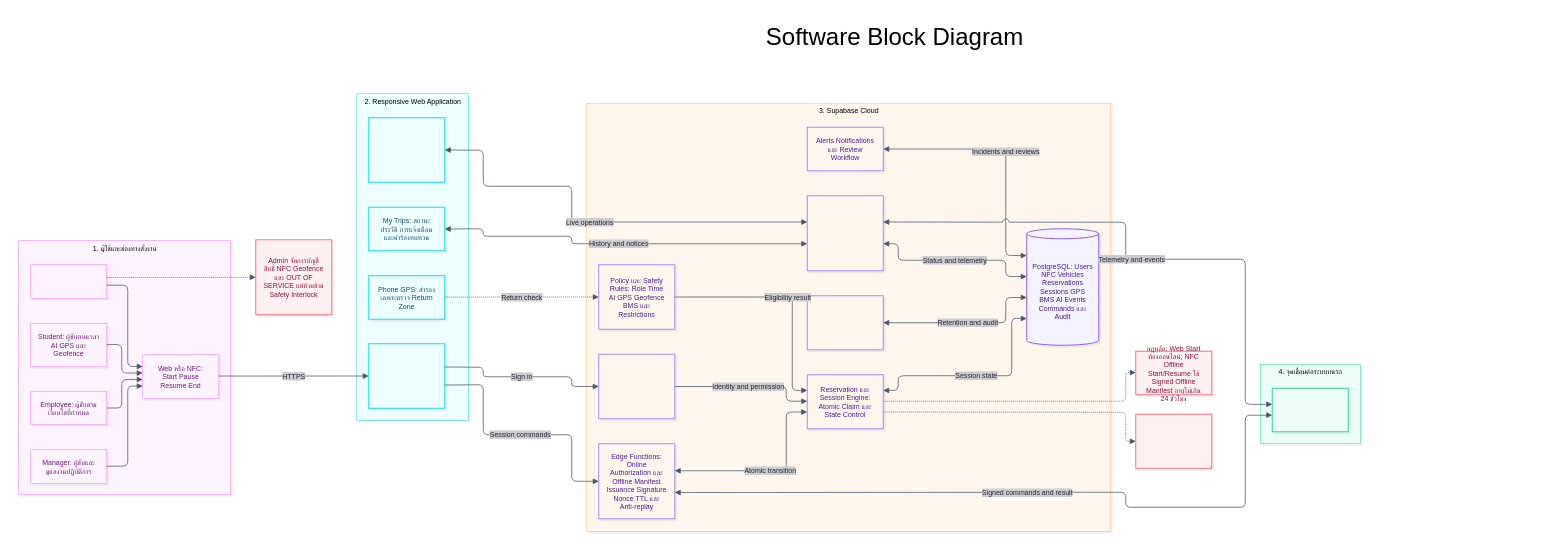
Image size: 1542x542. Some labels were removed from this diagram. Each missing label, with the centre of its shape:
"Admin: จัดการระบบและไม่ใช่บัญชีผู้ขับ" belongs at point 69,282.
"Audit Privacy Retention Version History และ Deletion" belongs at point 846,323.
"Auth และ RLS: Identity Role Account Status และ Driving Permission" belongs at point 637,387.
"Operations Dashboard: Vehicle GPS BMS AI Network และ Alerts" belongs at point 407,150.
"Raspberry Pi 4G Gateway: Vehicle API Client" belongs at point 1311,411.
"Realtime และ HTTPS APIs: Commands Status Telemetry และ Alerts" belongs at point 846,234.
"Web App: Login Register Approval Pre-ride และคำสั่ง Session" belongs at point 407,376.
"กฎหลัก: รถหนึ่งคันมี Reservation หรือ Active Session ได้หนึ่งผู้ใช้" belongs at point 1174,442.
